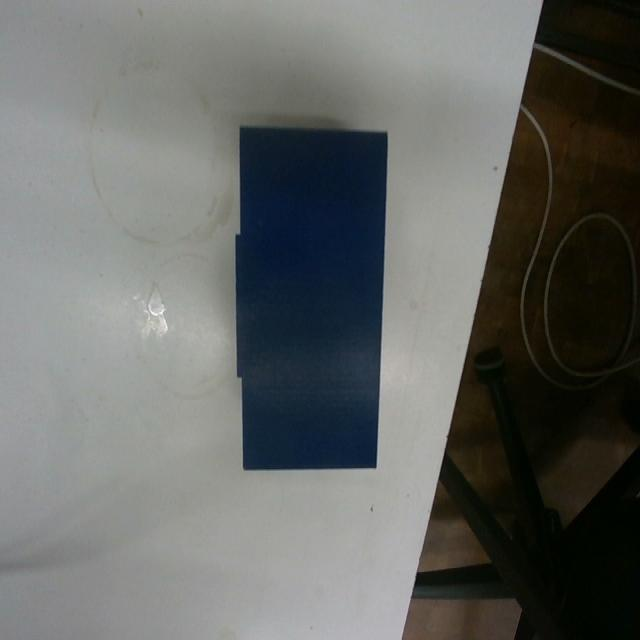Blue Cuboid: (233, 121, 388, 472)
